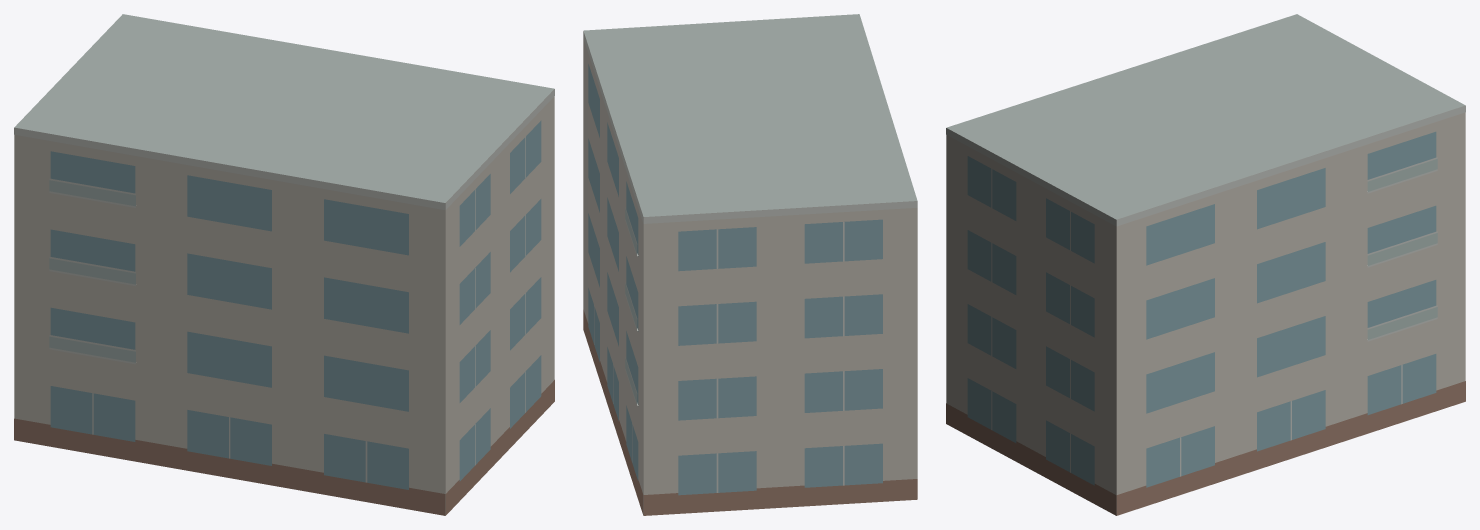
Rendered from survey-upis-32742601.glb.
3 views of the same model, side by side, from view 1: azimuth 30°, elevation 25°; view 2: azimuth 150°, elevation 25°; view 3: azimuth 270°, elevation 25° (orthographic). The views are drawn at different scales.
Parts seen in each view (by area): view 1: survey-upis-32742601.tmp; view 2: survey-upis-32742601.tmp; view 3: survey-upis-32742601.tmp.
Part boxes in pixels (bbox=[...]): survey-upis-32742601.tmp: bbox=[14, 14, 554, 515]; survey-upis-32742601.tmp: bbox=[583, 14, 917, 515]; survey-upis-32742601.tmp: bbox=[946, 14, 1465, 515].
Bounding box in the file's own units: 15.79 × 10.59 × 16.85.
